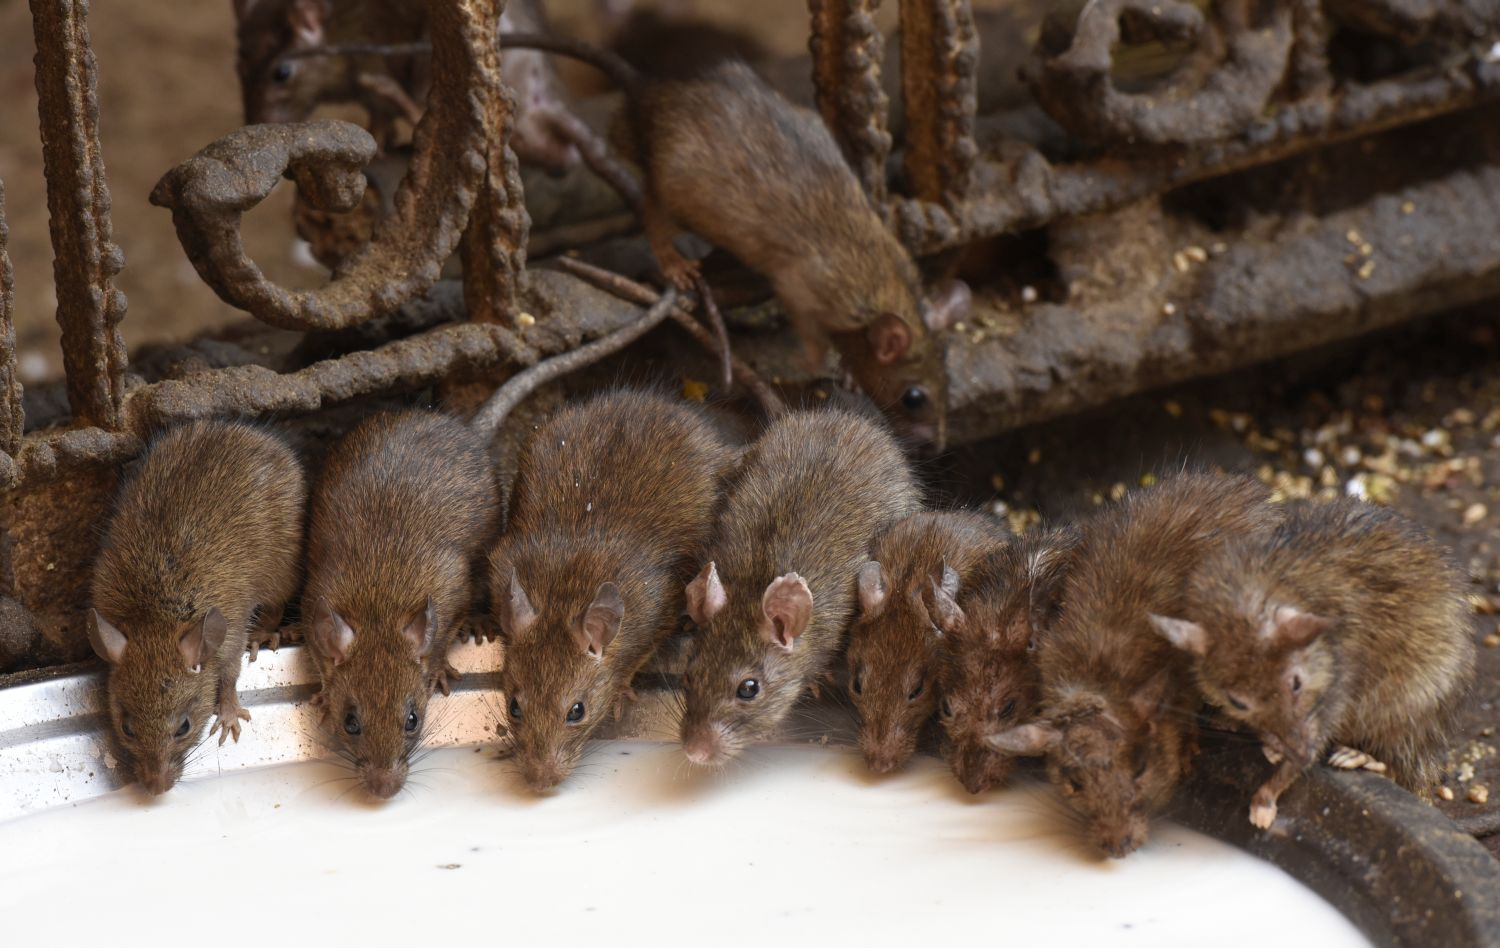rat: (581, 39, 972, 477), (1143, 509, 1491, 845), (59, 396, 316, 836), (291, 392, 508, 860), (1013, 501, 1226, 884), (481, 377, 663, 805), (658, 415, 836, 779), (835, 495, 1013, 798), (929, 542, 1056, 841)
